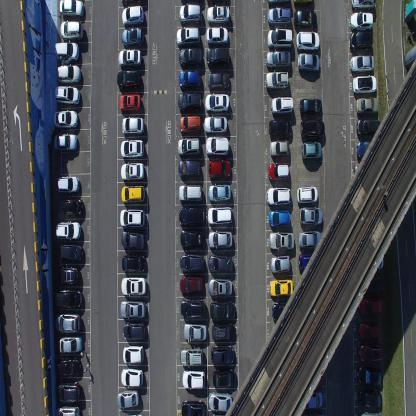car: (356, 364, 384, 386), (53, 290, 82, 310), (359, 272, 385, 294), (358, 342, 384, 364), (54, 85, 80, 107), (52, 108, 78, 130), (179, 2, 202, 26), (181, 297, 206, 319), (204, 92, 229, 114), (357, 387, 383, 408), (266, 28, 292, 49), (119, 208, 145, 229), (120, 230, 146, 251), (54, 313, 80, 334), (358, 296, 385, 316), (53, 42, 80, 62), (177, 136, 201, 158), (206, 135, 230, 157), (298, 250, 322, 272), (356, 139, 380, 161), (349, 30, 373, 52), (264, 70, 288, 92), (206, 46, 230, 68), (180, 346, 204, 368), (59, 19, 83, 41), (56, 357, 80, 379), (268, 6, 292, 28), (183, 321, 208, 342), (351, 74, 376, 95), (356, 117, 381, 138), (208, 391, 233, 412), (120, 299, 145, 320), (55, 221, 80, 242), (179, 206, 205, 226), (210, 300, 236, 320), (265, 50, 291, 70), (55, 64, 81, 84), (53, 266, 79, 286), (54, 382, 80, 402), (266, 186, 292, 206), (268, 231, 294, 251), (120, 276, 147, 295), (181, 226, 204, 248), (298, 51, 320, 74), (118, 92, 141, 114), (121, 343, 144, 365), (178, 92, 202, 113), (268, 118, 292, 139), (299, 205, 323, 226), (272, 301, 296, 322), (295, 30, 319, 51), (178, 47, 202, 68), (116, 69, 140, 90), (182, 369, 206, 390), (116, 388, 140, 409), (293, 8, 317, 29), (207, 205, 232, 225), (180, 252, 205, 272), (180, 275, 205, 295), (299, 119, 324, 139), (208, 254, 233, 274), (117, 49, 142, 69), (120, 116, 145, 136), (119, 138, 144, 158), (120, 184, 145, 204), (52, 132, 77, 152), (175, 27, 201, 46), (208, 159, 231, 180), (178, 70, 201, 91), (121, 27, 144, 48), (121, 4, 144, 25), (208, 228, 232, 248), (178, 158, 202, 178), (298, 98, 322, 118), (208, 277, 232, 297), (269, 277, 293, 297), (360, 249, 384, 269), (120, 161, 144, 181), (212, 368, 236, 388), (120, 368, 144, 388), (206, 4, 230, 24), (121, 254, 146, 273), (267, 161, 289, 182), (179, 113, 201, 134), (300, 390, 323, 410), (211, 345, 234, 365), (212, 322, 236, 341), (350, 53, 374, 72), (349, 11, 373, 30), (122, 322, 146, 341), (56, 175, 80, 194), (59, 243, 83, 262), (58, 336, 82, 355), (58, 0, 84, 17), (297, 184, 319, 204), (206, 26, 228, 46), (61, 197, 83, 217), (298, 229, 321, 248), (358, 321, 381, 340), (270, 96, 293, 115), (207, 70, 230, 89), (203, 115, 227, 133), (355, 96, 379, 114), (178, 184, 202, 202), (300, 142, 322, 161), (208, 184, 231, 202), (269, 139, 289, 159), (180, 400, 205, 416), (268, 209, 290, 227), (271, 255, 291, 274), (351, 0, 377, 11), (54, 405, 80, 415), (267, 0, 290, 7), (293, 0, 314, 7), (360, 411, 383, 415)
